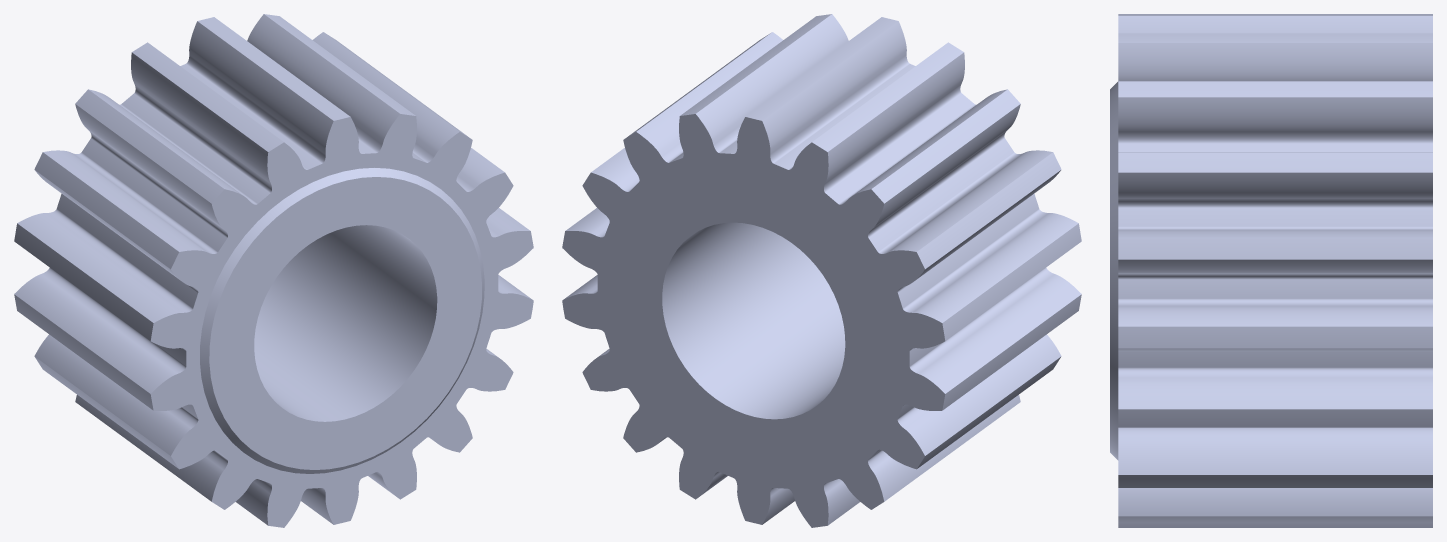
Rendered from REV_21_2101_P05_5_solid1.obj.
The picture shows the model from 3 angles, left to right: view 1: azimuth 30°, elevation 25°; view 2: azimuth 150°, elevation 25°; view 3: azimuth 270°, elevation 25°; orthographic projection. The views are drawn at different scales.
Parts seen in each view (by area): view 1: mesh25414, mesh25411, mesh25413, mesh25466, mesh25459, mesh25452, mesh25487, mesh25457, mesh25464, mesh25412, mesh25454, mesh25410 (+21 smaller); view 2: mesh25415, mesh25413, mesh25466, mesh25459, mesh25452, mesh25487, mesh25457, mesh25464, mesh25412, mesh25454, mesh25431, mesh25432 (+18 smaller); view 3: mesh25477, mesh25484, mesh25479, mesh25486, mesh25480, mesh25473, mesh25483, mesh25417, mesh25419, mesh25418, mesh25482, mesh25449 (+16 smaller).
Boxes of the visible parts, bbox=[...] form: mesh25414: bbox=[150, 114, 533, 527]; mesh25411: bbox=[209, 177, 481, 469]; mesh25413: bbox=[254, 236, 435, 421]; mesh25466: bbox=[14, 268, 186, 393]; mesh25459: bbox=[186, 21, 333, 163]; mesh25452: bbox=[17, 209, 192, 322]; mesh25487: bbox=[247, 14, 399, 152]; mesh25457: bbox=[131, 52, 271, 192]; mesh25464: bbox=[34, 334, 198, 455]; mesh25412: bbox=[324, 225, 437, 317]; mesh25454: bbox=[43, 150, 217, 253]; mesh25410: bbox=[202, 168, 484, 331]; mesh25415: bbox=[562, 114, 945, 527]; mesh25413: bbox=[663, 233, 845, 419]; mesh25466: bbox=[909, 268, 1081, 393]; mesh25459: bbox=[762, 21, 909, 163]; mesh25452: bbox=[903, 209, 1078, 322]; mesh25487: bbox=[696, 14, 848, 152]; mesh25457: bbox=[824, 52, 964, 192]; mesh25464: bbox=[897, 334, 1061, 455]; mesh25412: bbox=[662, 222, 775, 314]; mesh25454: bbox=[878, 150, 1052, 253]; mesh25431: bbox=[871, 89, 1020, 203]; mesh25432: bbox=[917, 152, 1061, 269]; mesh25477: bbox=[1118, 427, 1432, 474]; mesh25484: bbox=[1118, 97, 1432, 143]; mesh25479: bbox=[1118, 367, 1432, 409]; mesh25486: bbox=[1118, 43, 1432, 81]; mesh25480: bbox=[1118, 172, 1432, 207]; mesh25473: bbox=[1118, 488, 1432, 516]; mesh25483: bbox=[1118, 298, 1432, 326]; mesh25417: bbox=[1118, 237, 1432, 259]; mesh25419: bbox=[1118, 326, 1432, 348]; mesh25418: bbox=[1118, 152, 1432, 172]; mesh25482: bbox=[1118, 259, 1432, 279]; mesh25449: bbox=[1118, 279, 1432, 298].
Size of the model in its own units: 0.0126 by 0.0127 by 0.008.
